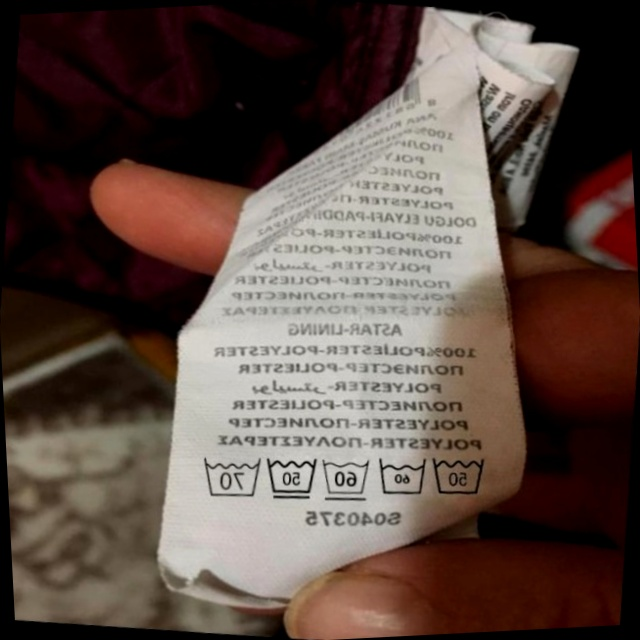50C: (424, 444, 494, 505), (258, 449, 323, 507)
60C: (313, 449, 375, 507), (370, 449, 432, 504)
70C: (192, 449, 264, 505)
